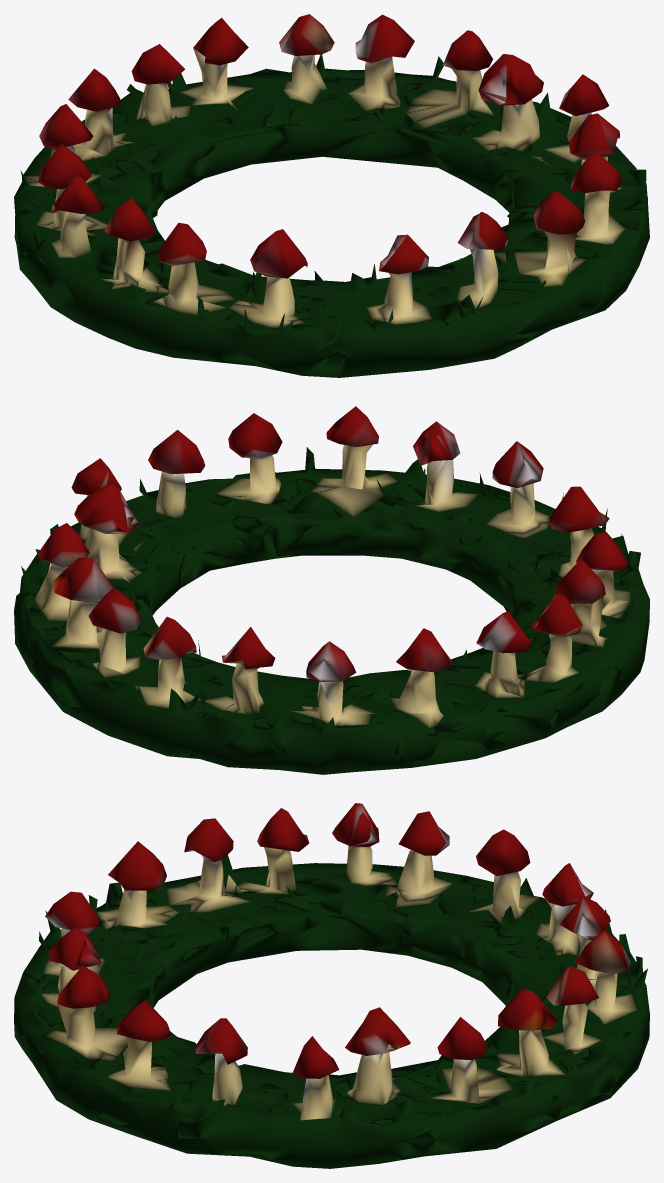
Rendered from gen3d-forest-mushroom-ring-lod0.glb.
3 renders of one model, top to bottom at view 1: azimuth 30°, elevation 25°; view 2: azimuth 150°, elevation 25°; view 3: azimuth 270°, elevation 25°, orthographic.
Visible parts, largest first — view 1: part_0; view 2: part_0; view 3: part_0.
Part boxes in pixels (x1=…): part_0: x1=14, y1=14, x2=649, y2=377; part_0: x1=14, y1=406, x2=649, y2=774; part_0: x1=14, y1=803, x2=649, y2=1168.
Size of the model in its own units: 4.64 by 0.9991 by 4.65.
